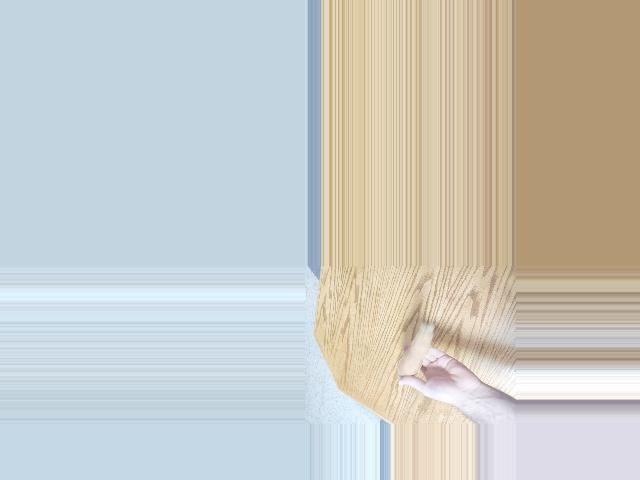sweet_potato: (397, 322, 437, 382)
